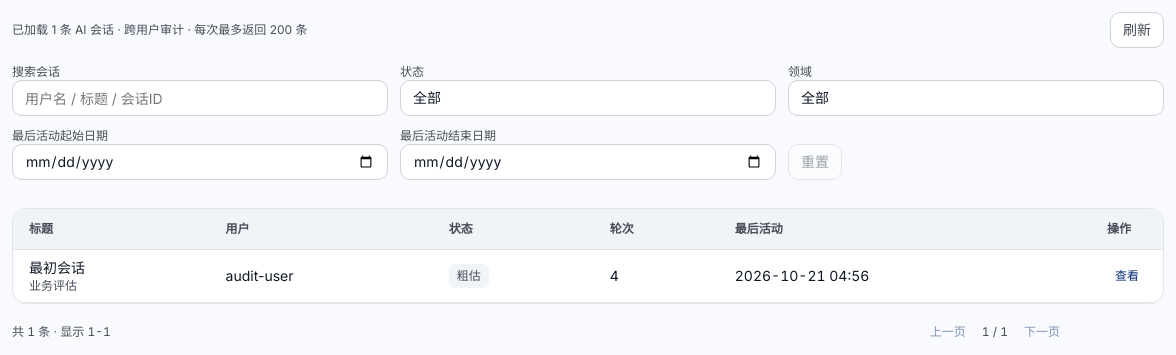
Scenario: 会话审计统一列表与只读详情 › 筛选改变即隐藏旧范围，防抖窗口内旧成功或失败响应不能更新列表
Expected: the button with aria-label "查看最初会话" is shown, [1107,260,1147,292]
Type "更旧筛选" into the search field named "会话搜索" at (200, 98), box [12,80,388,116]
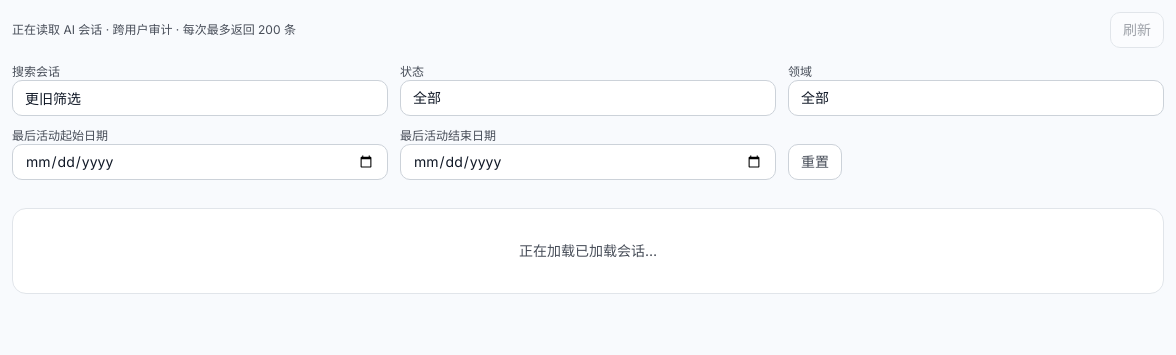
Expected: the table is gone
Replace the text in the search field with "旧筛选" at (200, 98), box [12,80,388,116]
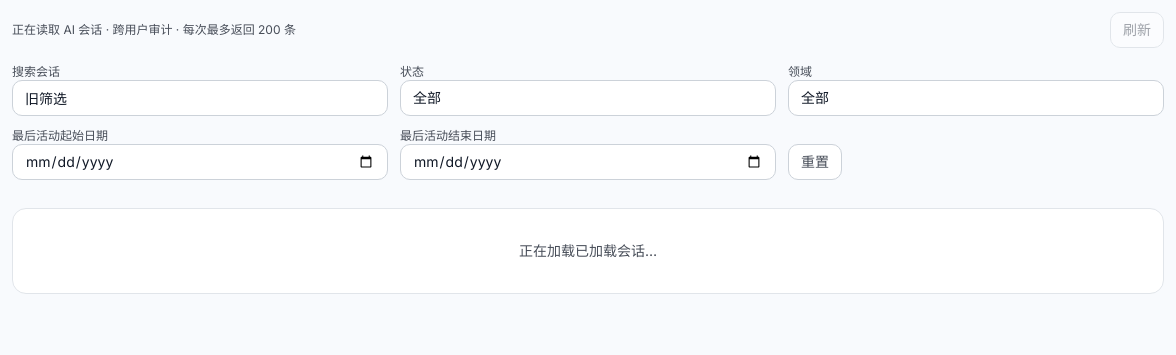
Replace the text in the search field with "最新筛选" at (200, 98), box [12,80,388,116]
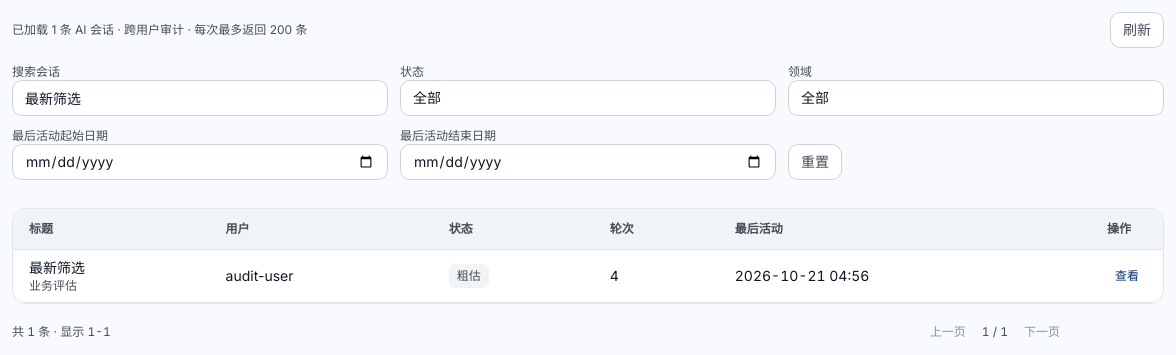
Expected: the message is gone
Expected: the button with aria-label "查看最新筛选" is shown, [1107,260,1147,292]
